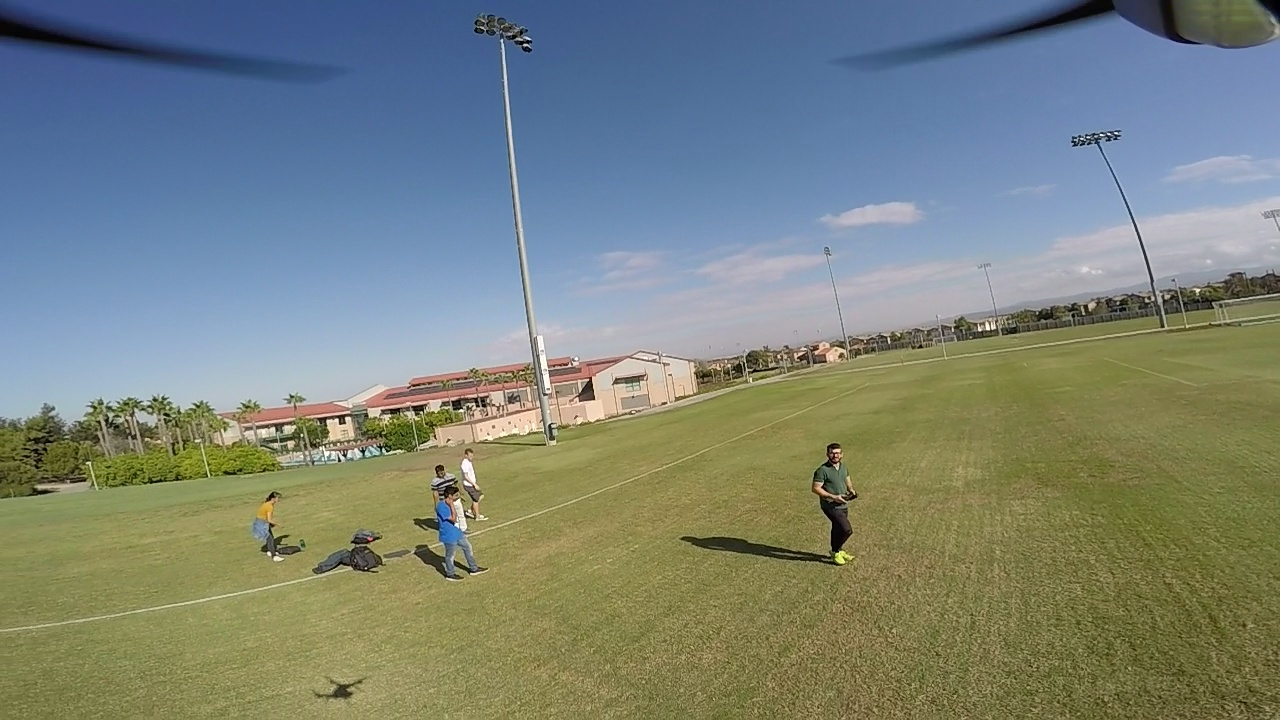person: (809, 440, 858, 563), (424, 478, 473, 576), (245, 487, 279, 553), (453, 444, 480, 517)
